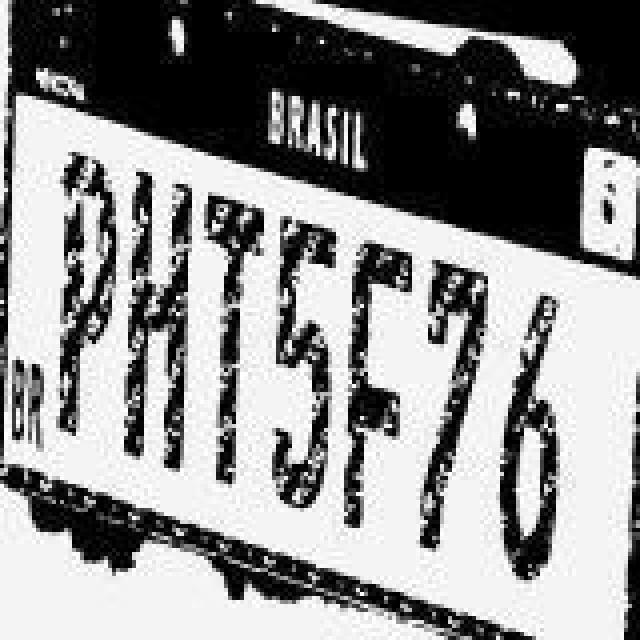5: (268, 216, 340, 520)
6: (490, 296, 566, 584)
7: (406, 258, 490, 550)
F: (340, 248, 412, 536)
H: (124, 172, 196, 468)
P: (50, 152, 126, 440)
T: (202, 192, 270, 488)
